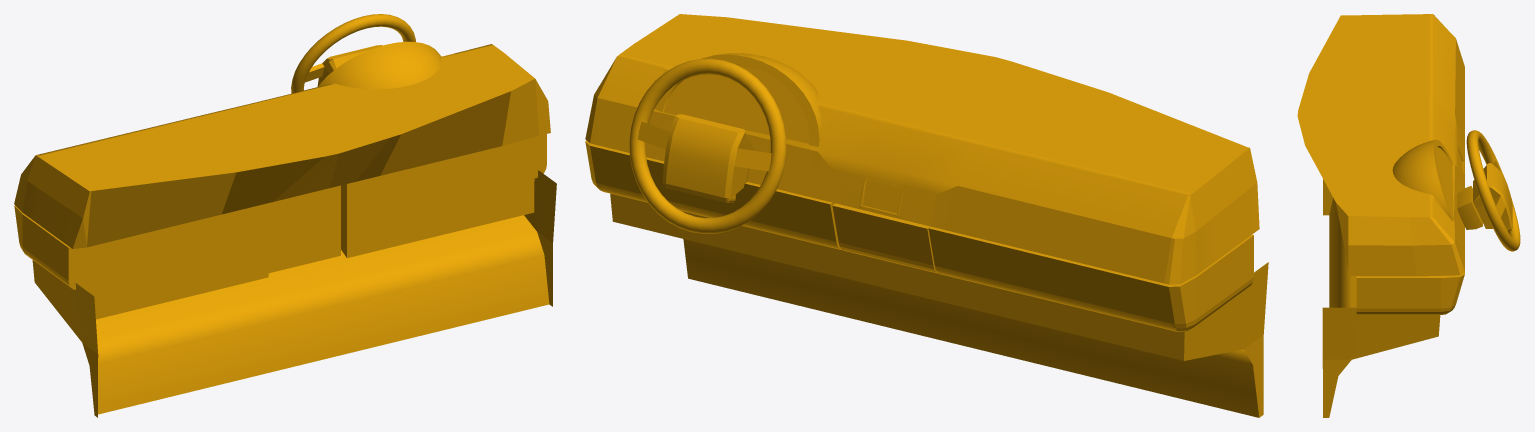
Rendered from PickUp_PickUp_Dashboard.fbx.
The picture shows the model from 3 angles, left to right: view 1: azimuth 30°, elevation 25°; view 2: azimuth 150°, elevation 25°; view 3: azimuth 270°, elevation 25°; orthographic projection. The views are drawn at different scales.
Parts seen in each view (by area): view 1: PickUp_PickUp_Dashboard; view 2: PickUp_PickUp_Dashboard; view 3: PickUp_PickUp_Dashboard.
Boxes of the visible parts, bbox=[...] form: PickUp_PickUp_Dashboard: bbox=[14, 14, 556, 417]; PickUp_PickUp_Dashboard: bbox=[585, 14, 1268, 417]; PickUp_PickUp_Dashboard: bbox=[1297, 14, 1520, 417].
Bounding box in the file's own units: 153 × 78.09 × 67.38.
